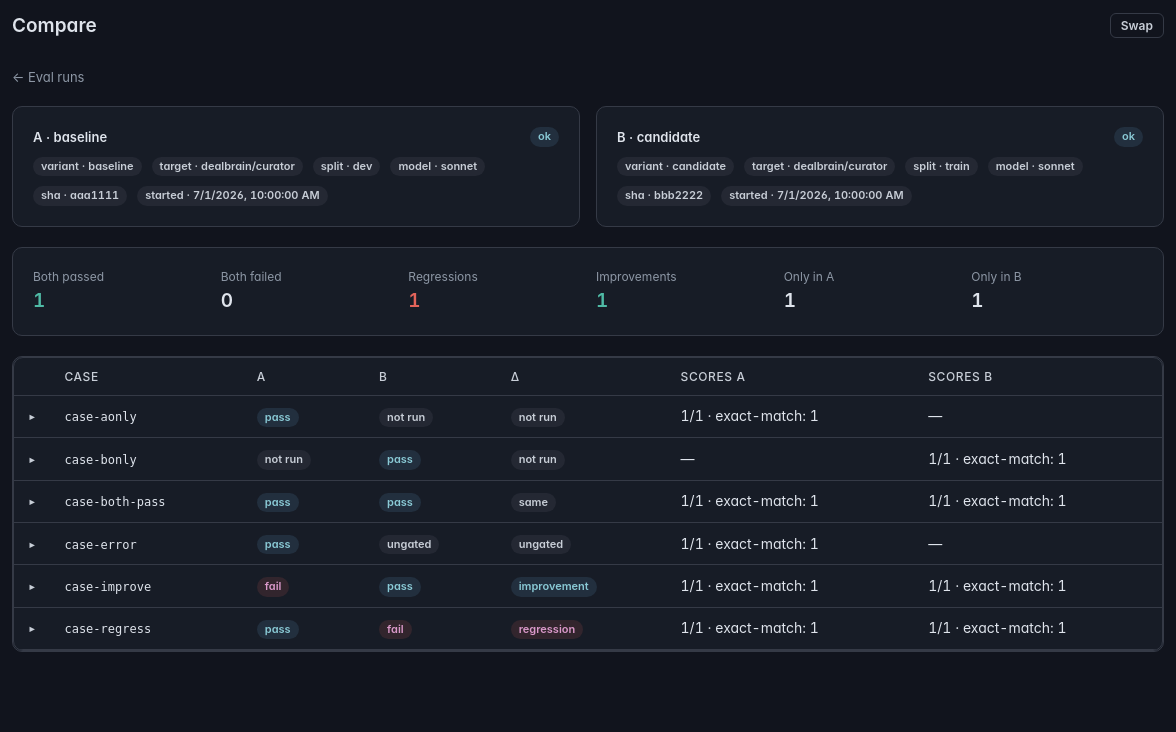
Test case: EvalComparePage › expanding the errored case shows the red error treatment for that side only
Step 1. Click the text "case-error" → (101, 545), box [64,538,137,552]
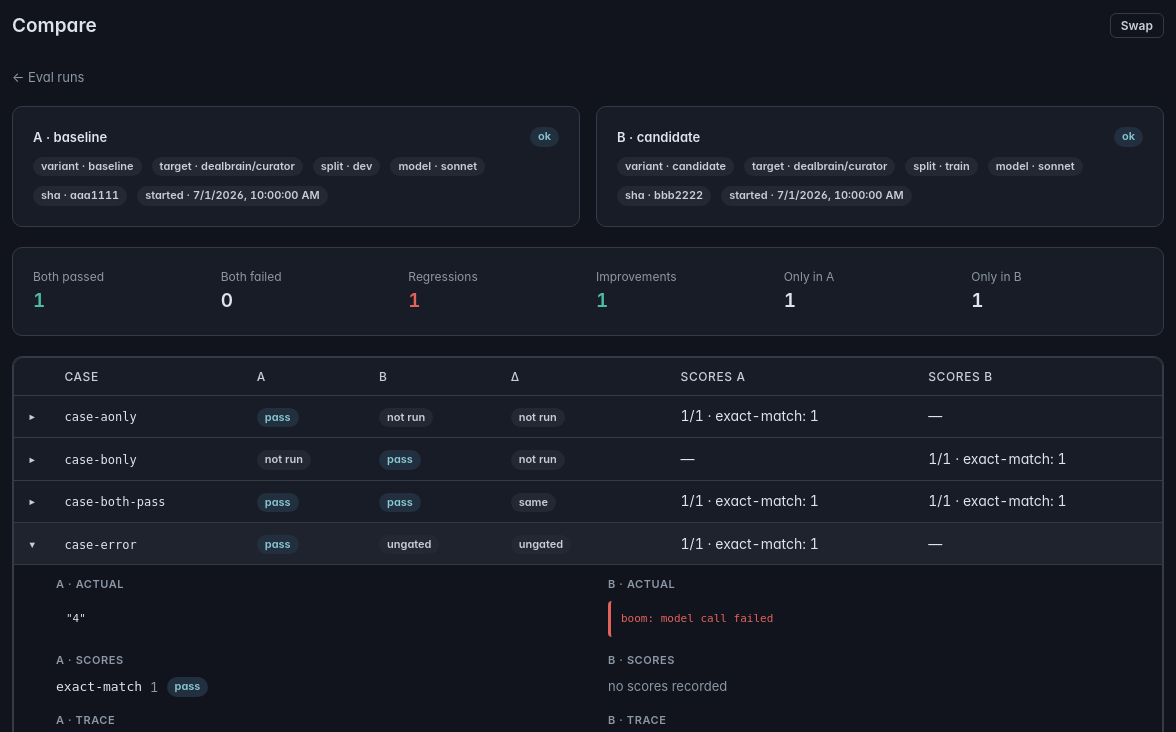
Check: the text "boom: model call failed" is shown, box [608,601,1148,637]
Check: the text "\"4\"" is shown, box [56,601,596,637]
